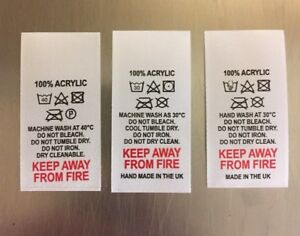do_not_bleach: (53, 91, 70, 106), (146, 80, 161, 95), (240, 80, 256, 94)
do_not_iron: (229, 95, 250, 111), (45, 108, 64, 123), (135, 96, 153, 111)
